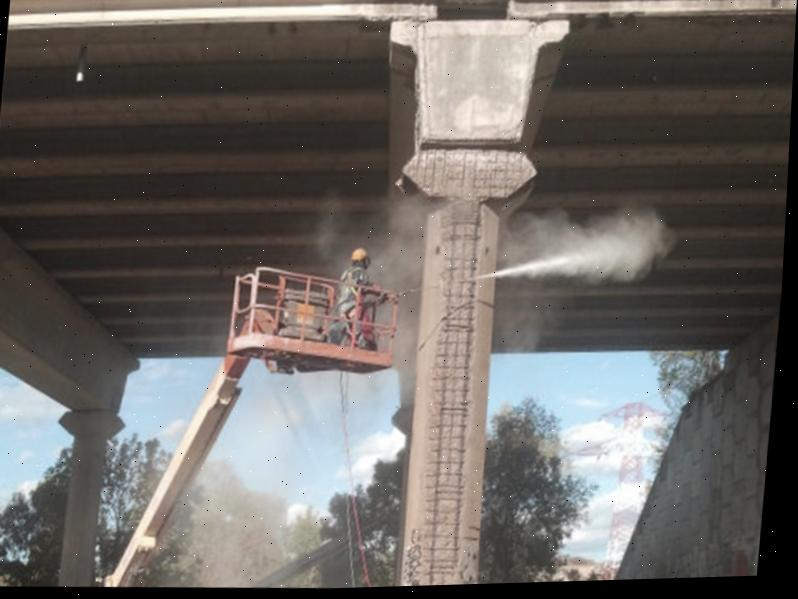spalling: (402, 147, 537, 585)
